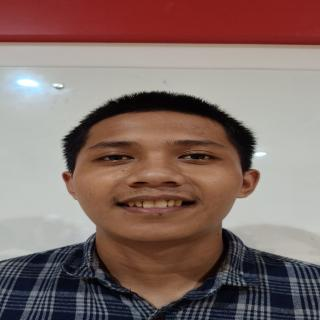Senang: (69, 106, 249, 252)
